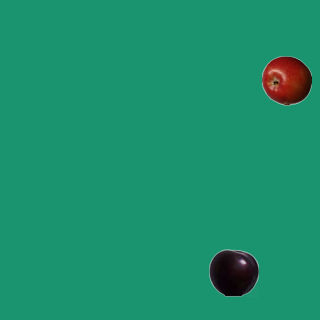Apple Braeburn: (261, 55, 311, 105)
Cherry Wax Black: (208, 247, 258, 297)
